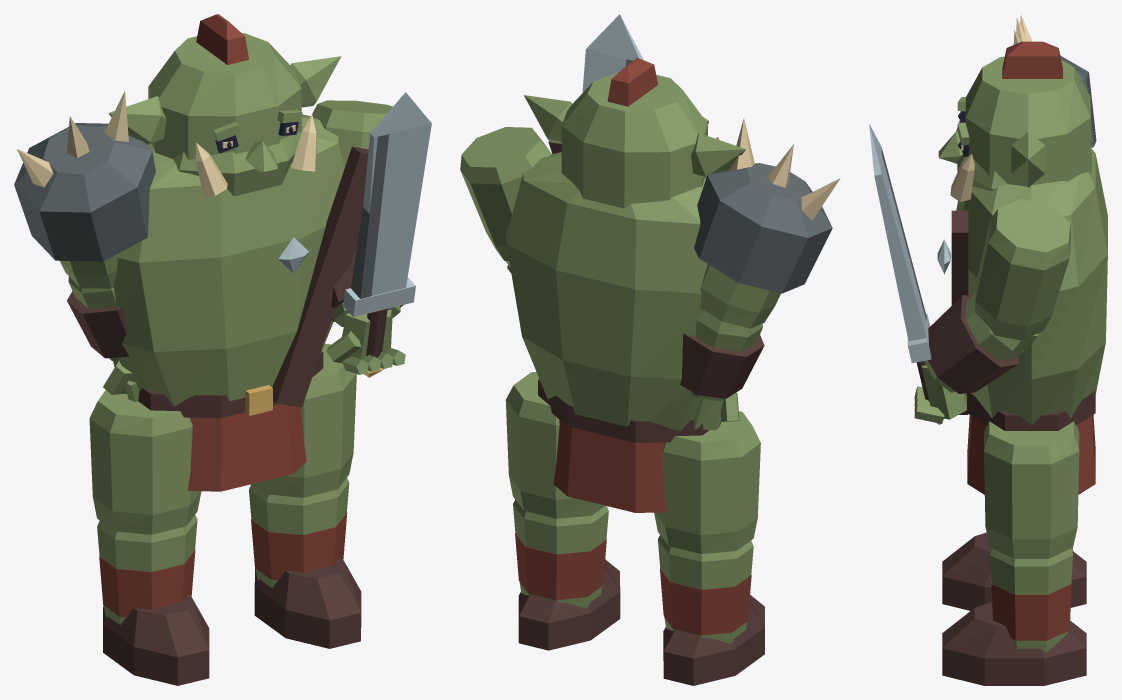
File: ogre.obj
3 views of the same model, side by side, from view 1: azimuth 30°, elevation 25°; view 2: azimuth 150°, elevation 25°; view 3: azimuth 270°, elevation 25° (orthographic). The views are drawn at different scales.
Parts seen in each view (by area): view 1: ogre_18, ogre_00, ogre_16, ogre_28, ogre_06, ogre_29, ogre_19, ogre_21, ogre_25, ogre_24, ogre_26, ogre_22 (+15 smaller); view 2: ogre_18, ogre_00, ogre_16, ogre_28, ogre_29, ogre_24, ogre_11, ogre_21, ogre_25, ogre_27, ogre_23, ogre_22 (+9 smaller); view 3: ogre_18, ogre_00, ogre_24, ogre_11, ogre_21, ogre_10, ogre_06, ogre_25, ogre_23, ogre_22, ogre_29, ogre_30 (+7 smaller).
Boxes of the visible parts, box(x1,y1,x2,y2) form: ogre_18: box(113, 114, 345, 406); ogre_00: box(108, 33, 341, 196); ogre_16: box(14, 123, 155, 261); ogre_28: box(89, 390, 201, 534); ogre_06: box(343, 92, 431, 316); ogre_29: box(187, 404, 306, 491); ogre_19: box(272, 146, 368, 407); ogre_21: box(254, 558, 361, 648); ogre_25: box(103, 595, 209, 685); ogre_24: box(253, 343, 356, 497); ogre_26: box(97, 514, 197, 624); ogre_22: box(249, 478, 349, 587); ogre_18: box(506, 152, 707, 431); ogre_00: box(524, 73, 745, 208); ogre_16: box(694, 163, 832, 293); ogre_28: box(654, 411, 760, 553); ogre_29: box(553, 419, 666, 512); ogre_24: box(505, 372, 604, 518); ogre_11: box(460, 127, 551, 260); ogre_21: box(518, 559, 620, 650); ogre_25: box(663, 595, 764, 685); ogre_27: box(660, 568, 751, 635); ogre_23: box(515, 533, 606, 600); ogre_22: box(513, 499, 608, 608); ogre_18: box(956, 149, 1107, 425); ogre_00: box(938, 56, 1091, 191); ogre_24: box(984, 421, 1079, 558); ogre_11: box(975, 199, 1071, 340); ogre_21: box(942, 602, 1086, 685); ogre_10: box(928, 293, 1018, 393); ogre_06: box(869, 123, 931, 363); ogre_25: box(942, 532, 1086, 610); ogre_23: box(991, 578, 1071, 640); ogre_22: box(990, 547, 1072, 652); ogre_29: box(967, 415, 1095, 494); ogre_30: box(968, 389, 1095, 430).
Size of the model in its own units: 1.99 by 3 by 1.1.
